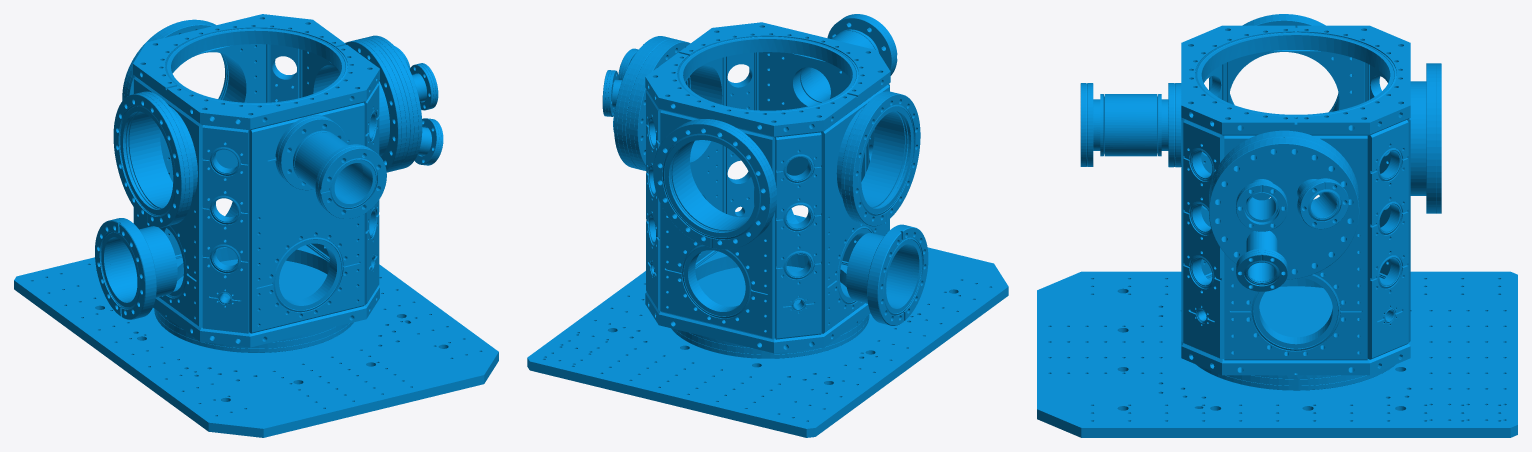
File: chamber.dae
3 views of the same model, side by side, from view 1: azimuth 30°, elevation 25°; view 2: azimuth 150°, elevation 25°; view 3: azimuth 270°, elevation 25° (orthographic). The views are drawn at different scales.
Visible parts, largest first — view 1: node0; view 2: node0; view 3: node0.
Part boxes in pixels (bbox=[...]): node0: bbox=[14, 14, 498, 437]; node0: bbox=[527, 14, 1008, 437]; node0: bbox=[1037, 14, 1517, 437].
Bounding box in the file's own units: 0.5337 × 0.65 × 0.426.
